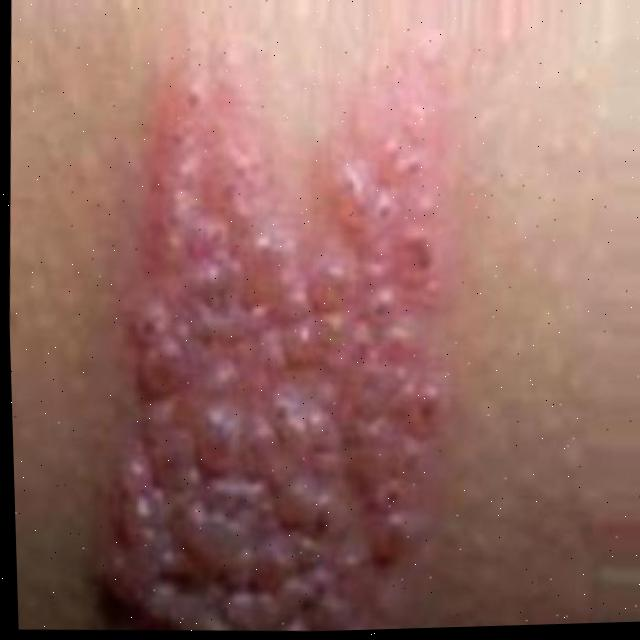Shingles: (59, 32, 471, 638)
